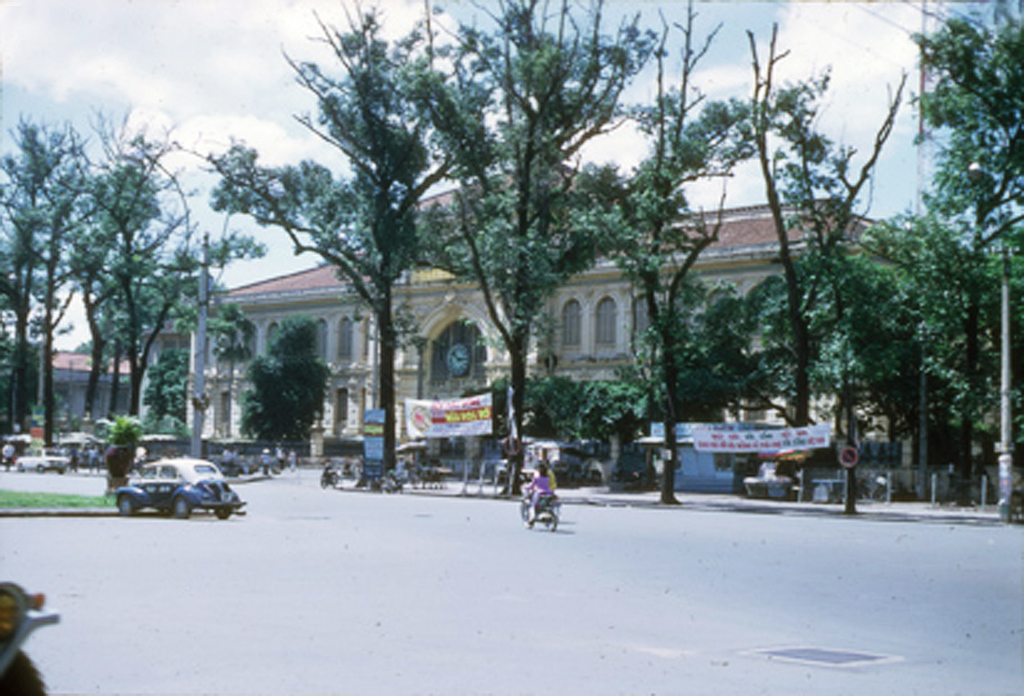Car: (107, 455, 234, 522), (12, 447, 77, 475)
